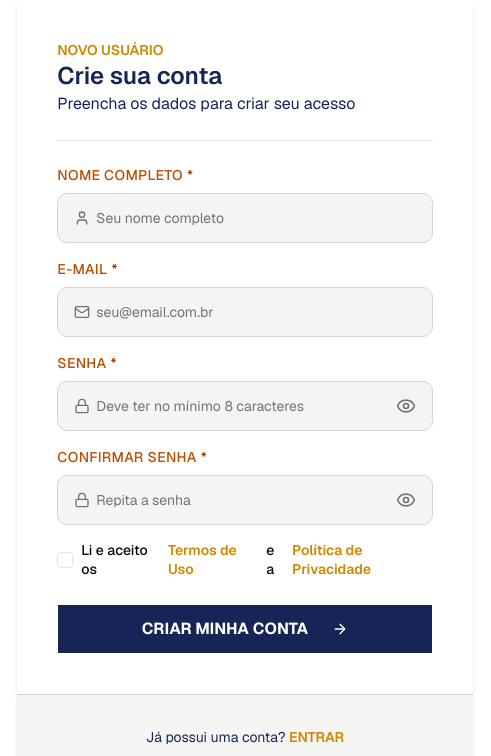
Test: SignUpForm › should display error message for already registered email
Type "Test User" into the field labelled "Nome completo *".
click(257, 218); type("Test User")  # box x1=90 y1=202 x2=424 y2=234
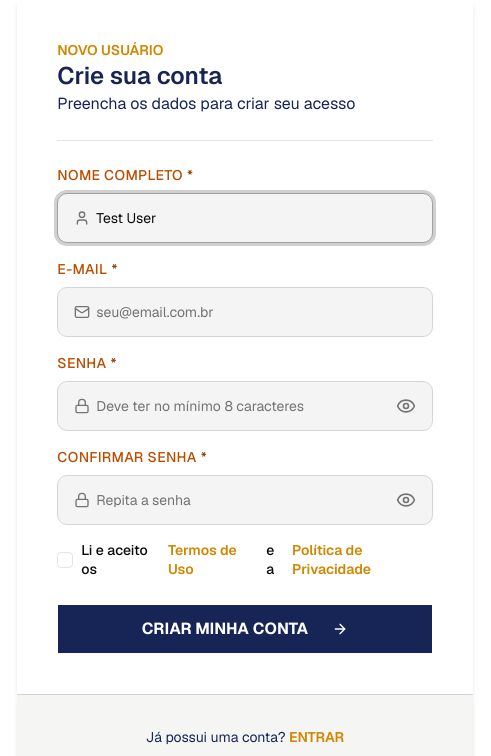
Type "teste@teste.com" into the field labelled "e-mail *".
click(257, 312); type("teste@teste.com")  # box x1=90 y1=296 x2=424 y2=328
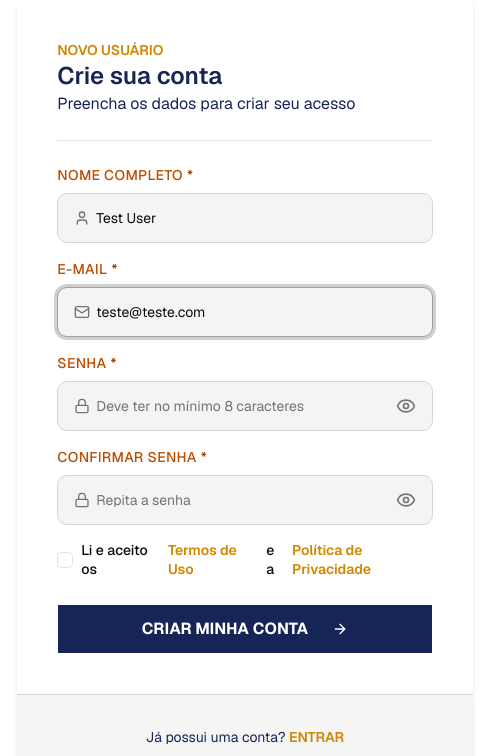
Type "testpassword123" into the password field labelled "senha *".
click(243, 406); type("testpassword123")  # box x1=90 y1=390 x2=396 y2=422
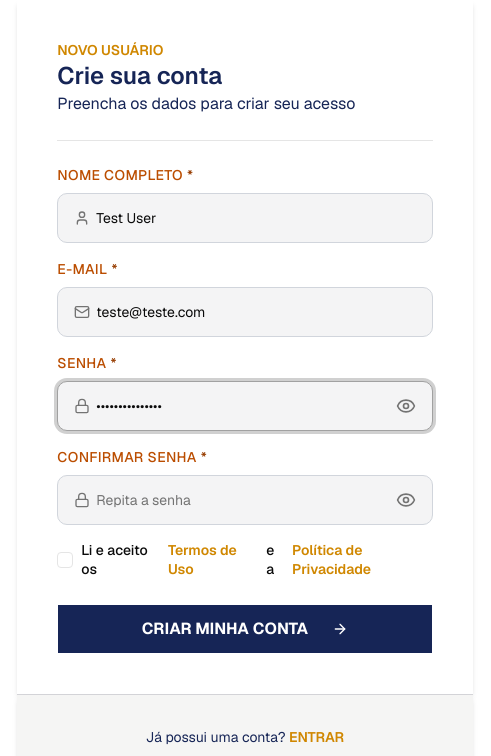
Type "testpassword123" into the password field labelled "confirmar senha *".
click(243, 500); type("testpassword123")  # box x1=90 y1=484 x2=396 y2=516
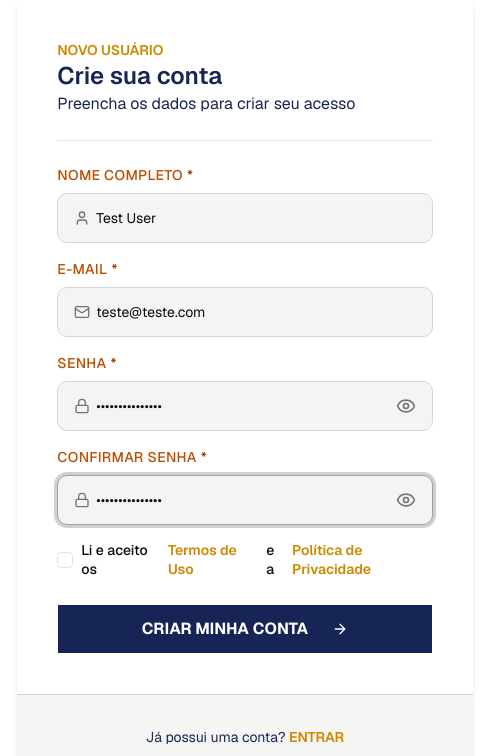
Click the checkbox.
click(65, 560)  # box x1=57 y1=552 x2=73 y2=568
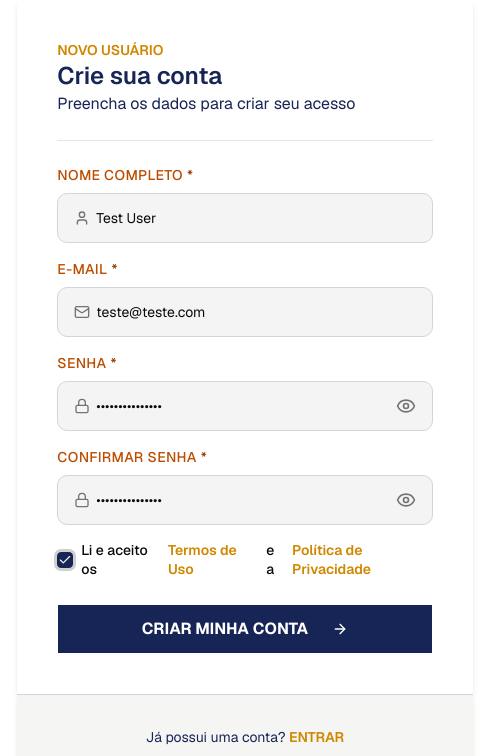
Click the button "criar minha conta".
click(245, 628)  # box x1=57 y1=604 x2=433 y2=654
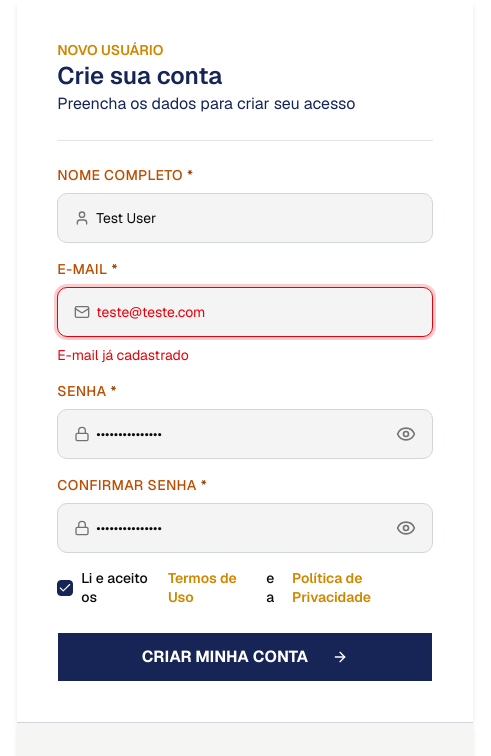
Result: the message reads "E-mail já cadastrado" at x1=57 y1=346 x2=189 y2=364
